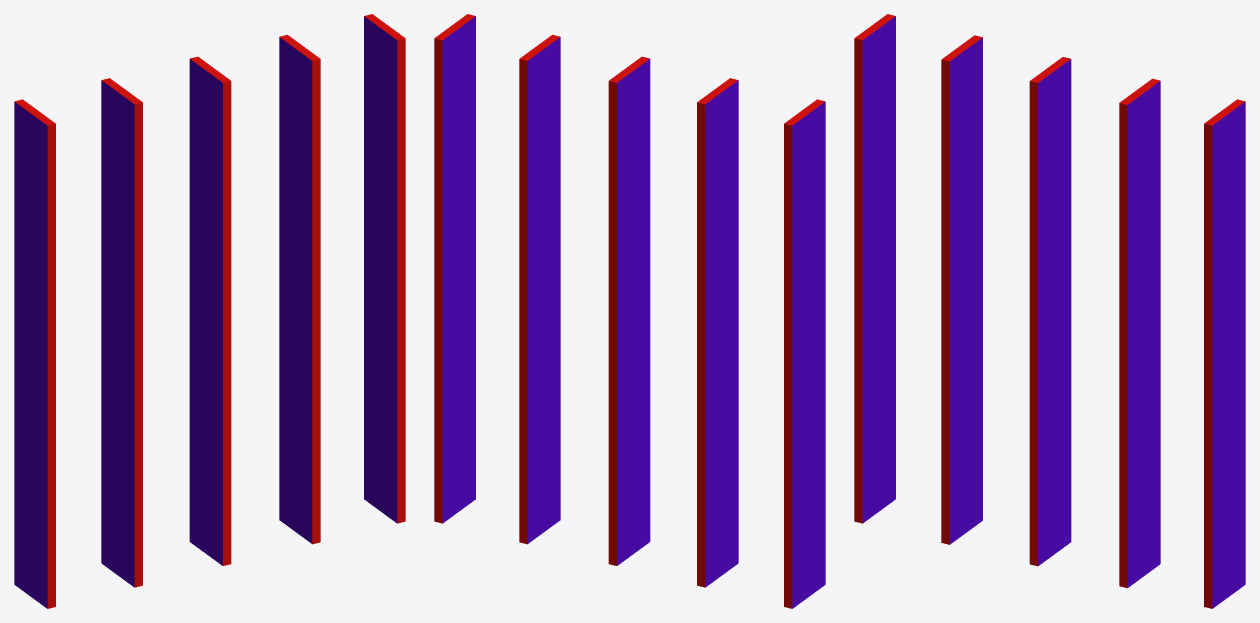
Rendered from shaderVertical-2.fbx.
3 views of the same model, side by side, from view 1: azimuth 30°, elevation 25°; view 2: azimuth 150°, elevation 25°; view 3: azimuth 330°, elevation 25° (orthographic).
Visible parts, largest first — view 1: shaderVertical-2; view 2: shaderVertical-2; view 3: shaderVertical-2.
Boxes of the visible parts, left/top/right/bottom form: shaderVertical-2: left=14, top=14, right=405, bottom=608; shaderVertical-2: left=434, top=14, right=825, bottom=608; shaderVertical-2: left=854, top=14, right=1245, bottom=608.
Size of the model in its own units: 1000 by 1290 by 161.
